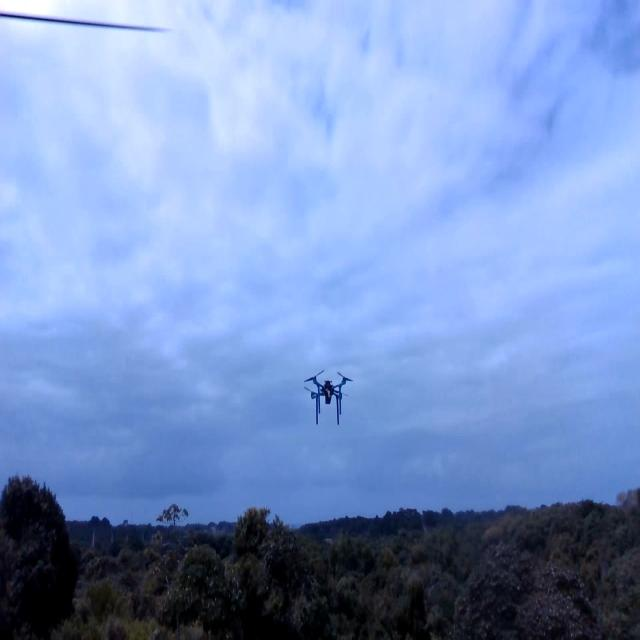-uav-: (298, 358, 360, 436)
